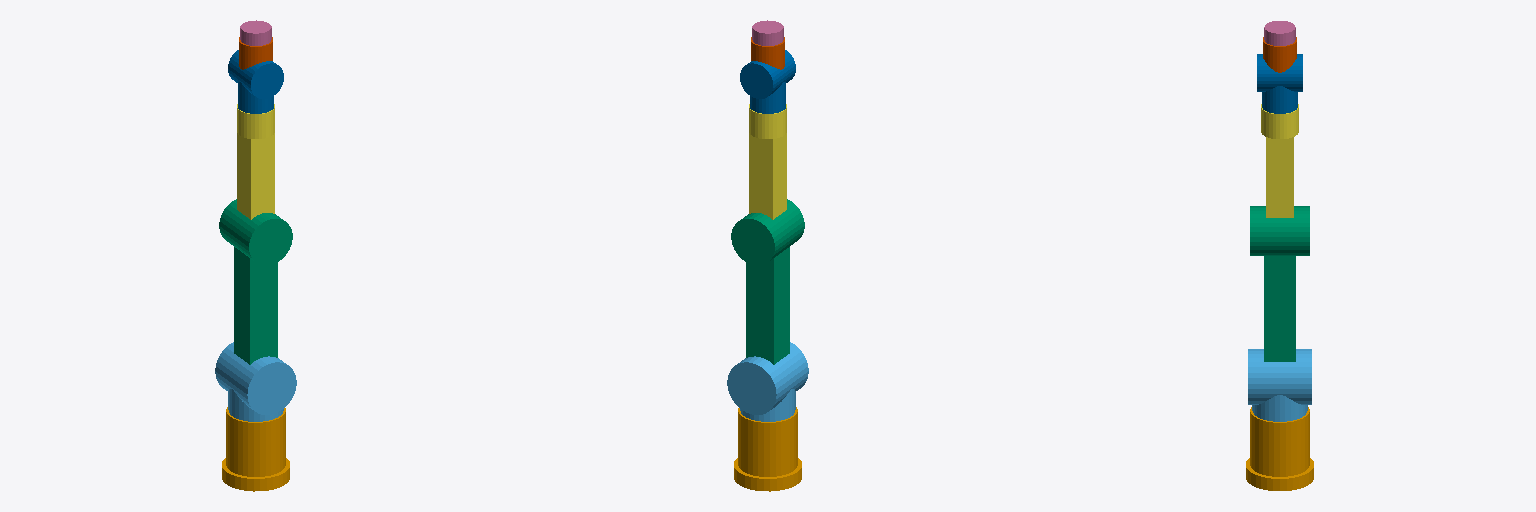
robot.urdf — Tandem Mini 6:
<?xml version="1.0"?>
<!-- Tandem example: a 6-axis arm. Meshes are STL in meters, in each link's frame. -->
<robot name="Tandem Mini 6">
  <link name="base_link"><visual><geometry><mesh filename="package://mini-arm/meshes/base_link.stl"/></geometry></visual></link>
  <link name="link1"><visual><geometry><mesh filename="package://mini-arm/meshes/link1.stl"/></geometry></visual></link>
  <link name="link2"><visual><geometry><mesh filename="package://mini-arm/meshes/link2.stl"/></geometry></visual></link>
  <link name="link3"><visual><geometry><mesh filename="package://mini-arm/meshes/link3.stl"/></geometry></visual></link>
  <link name="link4"><visual><geometry><mesh filename="package://mini-arm/meshes/link4.stl"/></geometry></visual></link>
  <link name="link5"><visual><geometry><mesh filename="package://mini-arm/meshes/link5.stl"/></geometry></visual></link>
  <link name="link6"><visual><geometry><mesh filename="package://mini-arm/meshes/link6.stl"/></geometry></visual></link>
  <link name="tool0"/>
  <joint name="joint1" type="revolute"><parent link="base_link"/><child link="link1"/><origin xyz="0 0 0.16" rpy="0 0 0"/><axis xyz="0 0 1"/><limit lower="-6.2832" upper="6.2832" velocity="1.6" effort="50"/></joint>
  <joint name="joint2" type="revolute"><parent link="link1"/><child link="link2"/><origin xyz="0 0 0.08" rpy="0 0 0"/><axis xyz="0 1 0"/><limit lower="-2.5" upper="2.5" velocity="1.6" effort="50"/></joint>
  <joint name="joint3" type="revolute"><parent link="link2"/><child link="link3"/><origin xyz="0 0 0.35" rpy="0 0 0"/><axis xyz="0 1 0"/><limit lower="-2.8" upper="2.8" velocity="1.6" effort="50"/></joint>
  <joint name="joint4" type="revolute"><parent link="link3"/><child link="link4"/><origin xyz="0 0 0.3" rpy="0 0 0"/><axis xyz="0 0 1"/><limit lower="-6.2832" upper="6.2832" velocity="1.6" effort="50"/></joint>
  <joint name="joint5" type="revolute"><parent link="link4"/><child link="link5"/><origin xyz="0 0 0.08" rpy="0 0 0"/><axis xyz="0 1 0"/><limit lower="-3.05" upper="3.05" velocity="1.6" effort="50"/></joint>
  <joint name="joint6" type="revolute"><parent link="link5"/><child link="link6"/><origin xyz="0 0 0.08" rpy="0 0 0"/><axis xyz="0 0 1"/><limit lower="-6.2832" upper="6.2832" velocity="1.6" effort="50"/></joint>
  <joint name="flange" type="fixed"><parent link="link6"/><child link="tool0"/><origin xyz="0 0 0.03"/></joint>
</robot>

--- Facts derived from the render (not from the file) ---
Views: 3 orthographic renders of the robot side by side, from view 1: azimuth 30°, elevation 25°; view 2: azimuth 150°, elevation 25°; view 3: azimuth 270°, elevation 25°.
Model Tandem Mini 6 with 8 links and 7 joints (6 revolute, 1 fixed), rooted at base_link, posed every joint at zero.
Visible links, largest first — view 1: link2, base_link, link1, link3, link4, link6, link5; view 2: link2, base_link, link1, link3, link4, link6, link5; view 3: link2, base_link, link1, link3, link4, link5, link6.
Link boxes in pixels (x1,y1,x2,y2): link2: (219,199,292,364); base_link: (222,407,289,491); link1: (215,342,296,421); link3: (237,104,274,219); link4: (228,50,283,113); link6: (240,20,271,45); link5: (239,37,272,69); link2: (731,199,804,364); base_link: (734,407,801,491); link1: (727,342,808,421); link3: (749,104,786,219); link4: (740,50,795,113); link6: (752,20,783,45); link5: (751,37,784,69); link2: (1250,206,1309,361); base_link: (1246,407,1313,490); link1: (1248,349,1311,421); link3: (1261,104,1298,217); link4: (1257,54,1302,113); link5: (1263,37,1296,72); link6: (1264,21,1295,45).
Size in the robot's own frame: 0.15 by 0.15 by 1.08 metres.
7 mesh visuals loaded from 7 distinct referenced files (7 binary STL).
